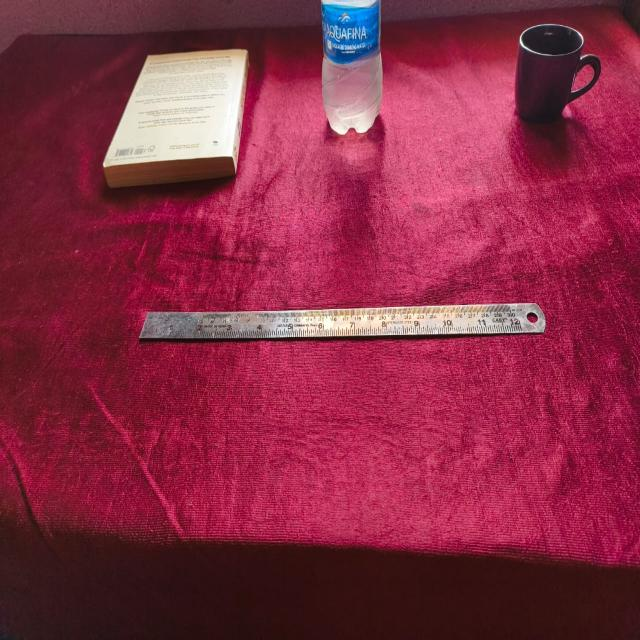Book: (103, 50, 243, 186)
Bottle: (317, 0, 384, 135)
Cup: (514, 26, 601, 127)
scale: (140, 306, 546, 336)
